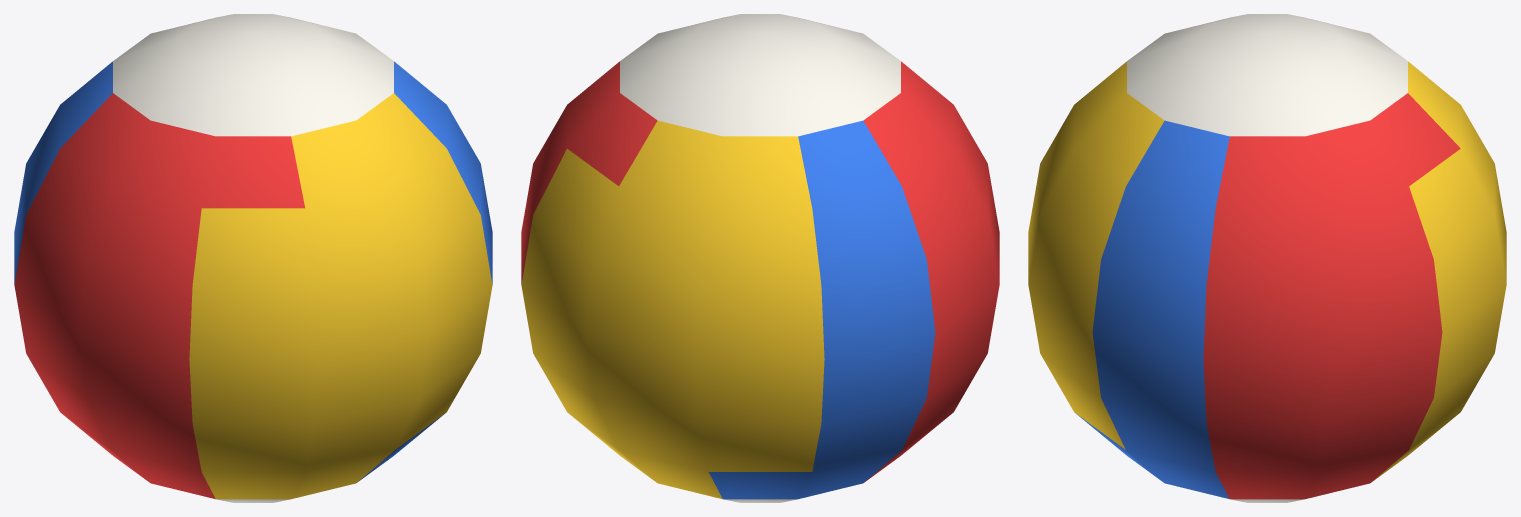
Rendered from Ball.fbx.
3 renders of one model, left to right at view 1: azimuth 30°, elevation 25°; view 2: azimuth 150°, elevation 25°; view 3: azimuth 270°, elevation 25°, orthographic.
Visible parts, largest first — view 1: Ball; view 2: Ball; view 3: Ball.
Boxes of the visible parts, x1,y1,x2,y2 form: Ball: (14,14,492,502); Ball: (521,14,999,502); Ball: (1028,14,1506,502).
Bounding box in the file's own units: 0.0869 × 0.09 × 0.0869.
